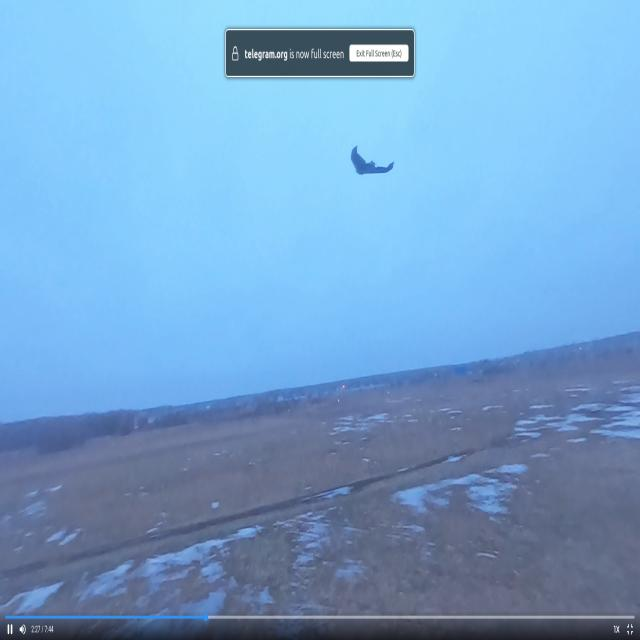planedrone: (349, 146, 395, 177)
